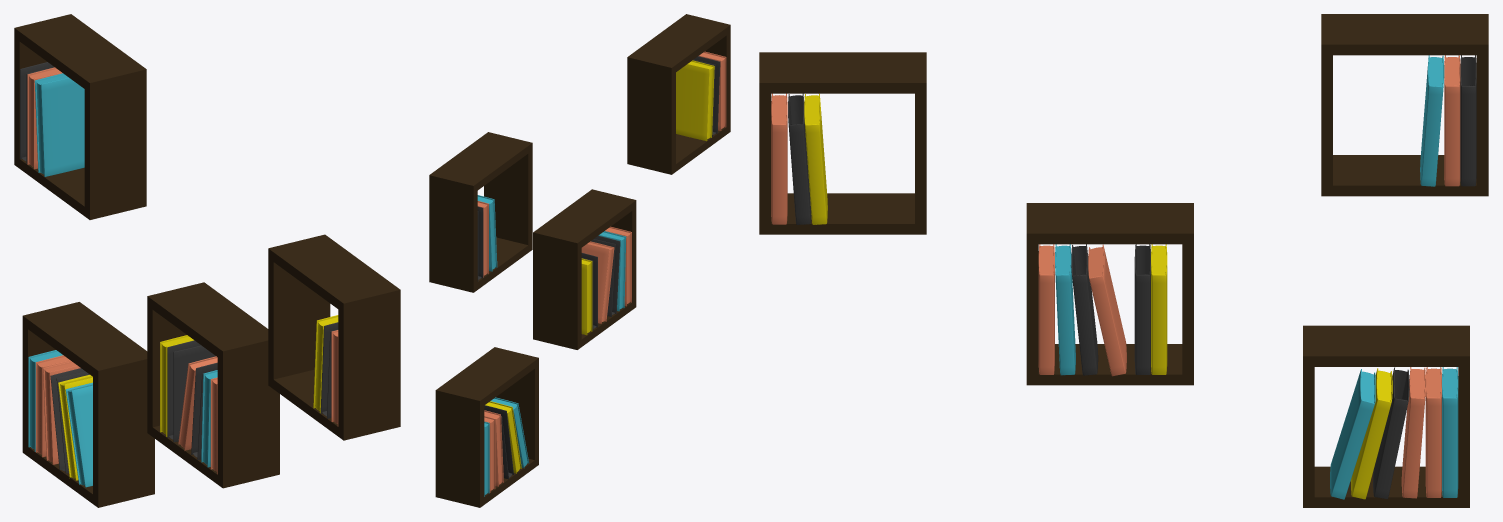
Rendered from estantes.gltf.
3 views of the same model, side by side, from view 1: azimuth 30°, elevation 25°; view 2: azimuth 150°, elevation 25°; view 3: azimuth 270°, elevation 25° (orthographic). The views are drawn at different scales.
Visible parts, largest first — view 1: CUBE 2, CUBE 3, CUBE 4, CUBE 1, Book.014, Book.005, Book.007, Book.002, Book.008, Book.001, Book.003, Book.013 (+10 smaller); view 2: CUBE 3, CUBE 1, CUBE 2, CUBE 4, Book.015, Book.008, Book.006, Book.009, Book.017, Book.003, Book.010, Book.004 (+10 smaller); view 3: CUBE 3, CUBE 2, CUBE 4, CUBE 1, Book.005, Book.008, Book.003, Book.009, Book.004, Book.014, Book.015, Book.002 (+10 smaller).
Part boxes in pixels (x1=…): CUBE 2: x1=268, y1=234, x2=400, y2=440; CUBE 3: x1=14, y1=14, x2=146, y2=219; CUBE 4: x1=147, y1=282, x2=279, y2=488; CUBE 1: x1=22, y1=302, x2=154, y2=507; Book.014: x1=34, y1=73, x2=84, y2=176; Book.005: x1=65, y1=382, x2=92, y2=487; Book.007: x1=167, y1=340, x2=215, y2=442; Book.002: x1=43, y1=361, x2=80, y2=464; Book.008: x1=178, y1=356, x2=217, y2=450; Book.001: x1=35, y1=355, x2=70, y2=457; Book.003: x1=50, y1=368, x2=89, y2=473; Book.013: x1=27, y1=67, x2=62, y2=169; CUBE 3: x1=429, y1=132, x2=532, y2=292; CUBE 1: x1=435, y1=347, x2=538, y2=507; CUBE 2: x1=627, y1=14, x2=730, y2=174; CUBE 4: x1=533, y1=189, x2=636, y2=349; Book.015: x1=676, y1=60, x2=714, y2=141; Book.008: x1=581, y1=241, x2=614, y2=323; Book.006: x1=581, y1=258, x2=592, y2=335; Book.009: x1=591, y1=235, x2=620, y2=316; Book.017: x1=698, y1=51, x2=726, y2=130; Book.003: x1=484, y1=405, x2=513, y2=479; Book.010: x1=598, y1=231, x2=626, y2=311; Book.004: x1=485, y1=401, x2=521, y2=473; CUBE 3: x1=1321, y1=14, x2=1488, y2=196; CUBE 2: x1=759, y1=52, x2=926, y2=234; CUBE 4: x1=1026, y1=203, x2=1193, y2=385; CUBE 1: x1=1303, y1=325, x2=1469, y2=507; Book.005: x1=1330, y1=369, x2=1375, y2=499; Book.008: x1=1088, y1=244, x2=1126, y2=376; Book.003: x1=1373, y1=367, x2=1409, y2=499; Book.009: x1=1071, y1=244, x2=1098, y2=375; Book.004: x1=1350, y1=368, x2=1392, y2=499; Book.014: x1=1420, y1=55, x2=1444, y2=186; Book.015: x1=804, y1=93, x2=827, y2=224; Book.002: x1=1401, y1=367, x2=1425, y2=498.
Size of the model in its own units: 0.0991 by 0.68 by 0.97.
